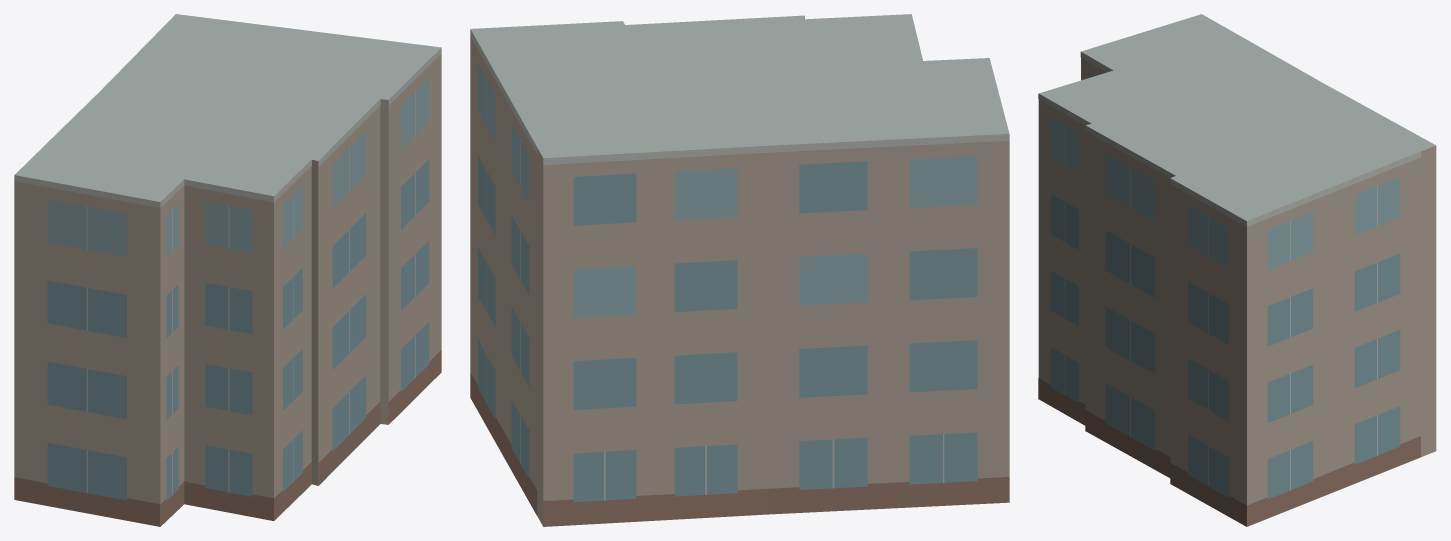
Rendered from survey-upis-33015527.glb.
3 renders of one model, left to right at view 1: azimuth 30°, elevation 25°; view 2: azimuth 150°, elevation 25°; view 3: azimuth 270°, elevation 25°, orthographic. The views are drawn at different scales.
Parts seen in each view (by area): view 1: survey-upis-33015527.tmp; view 2: survey-upis-33015527.tmp; view 3: survey-upis-33015527.tmp.
Part boxes in pixels (<box>): survey-upis-33015527.tmp: <box>14,14,441,526</box>; survey-upis-33015527.tmp: <box>470,14,1009,526</box>; survey-upis-33015527.tmp: <box>1038,14,1436,526</box>.
Size of the model in its own units: 18.9 by 13 by 15.34.
